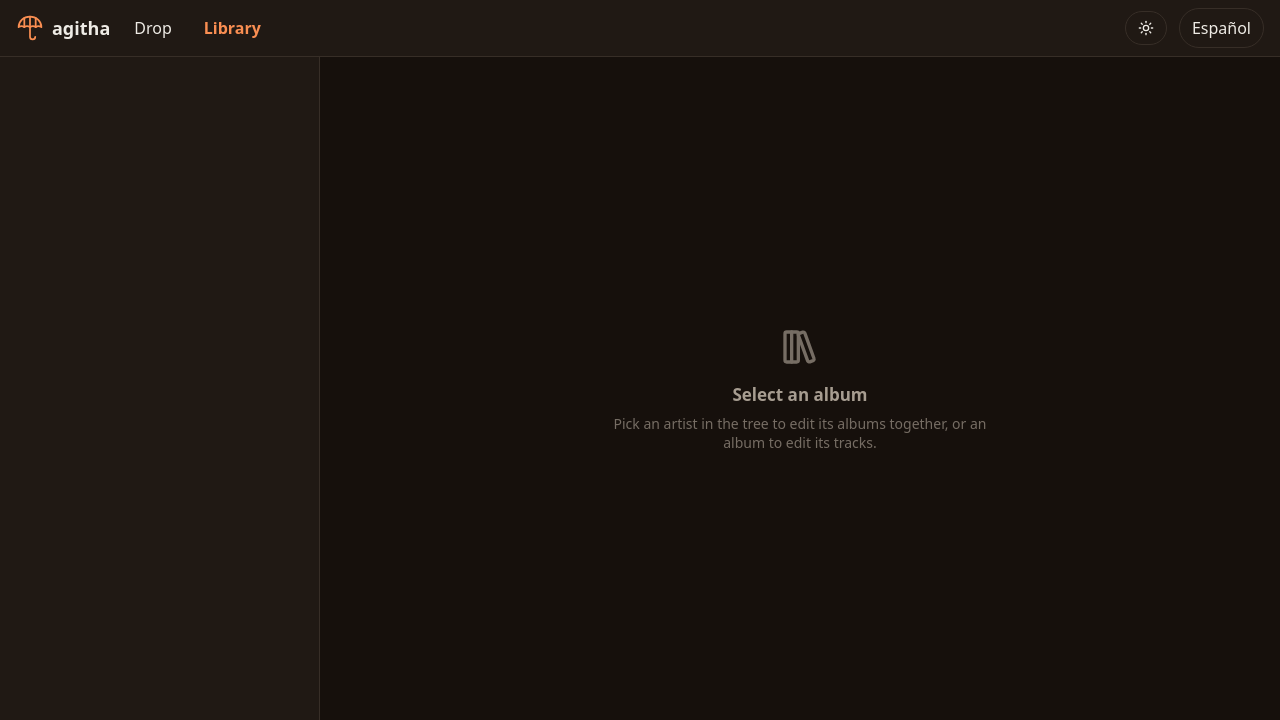
Test: routes › returns to the drop page from the bar's Drop link, and marks it current
Click the link "Drop": (153, 28) [134,17,172,39]
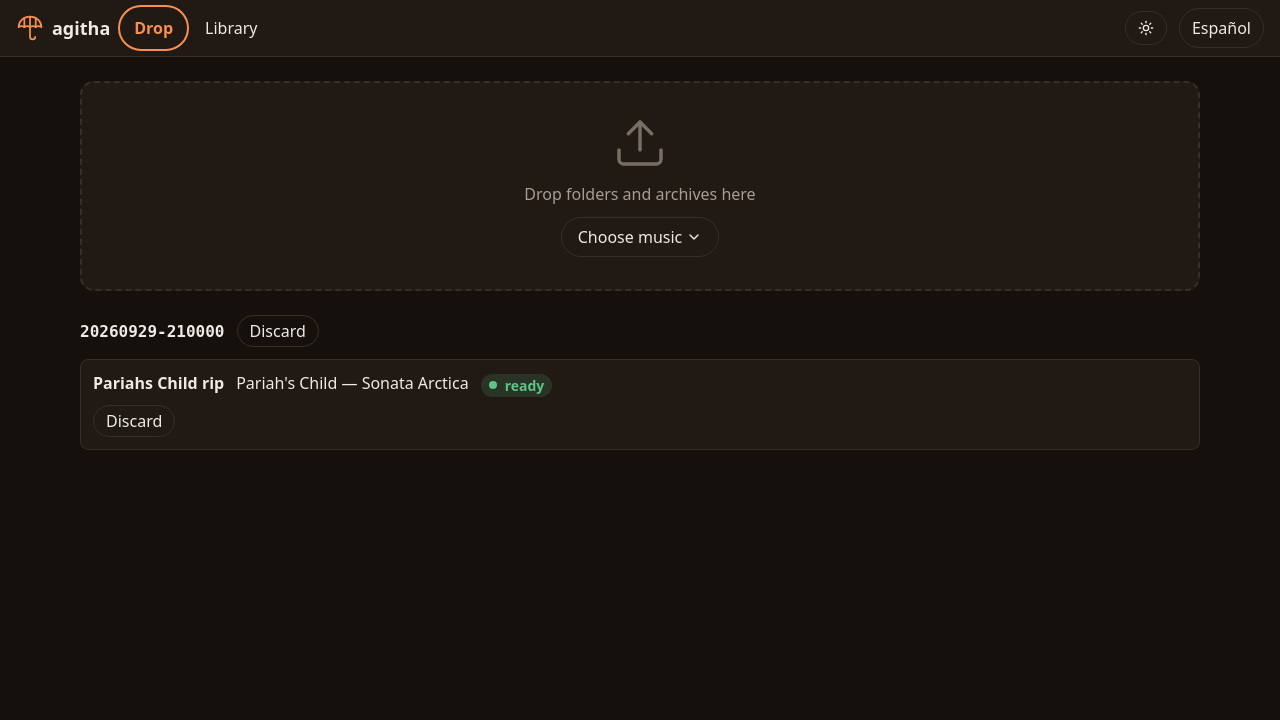
Check: the element named "Drop music here" is shown, box [80,81,1200,291]
